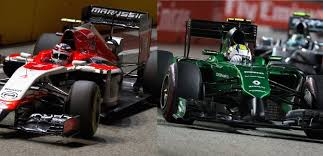FormulaOneCar: (1, 4, 156, 156), (157, 15, 323, 140)
